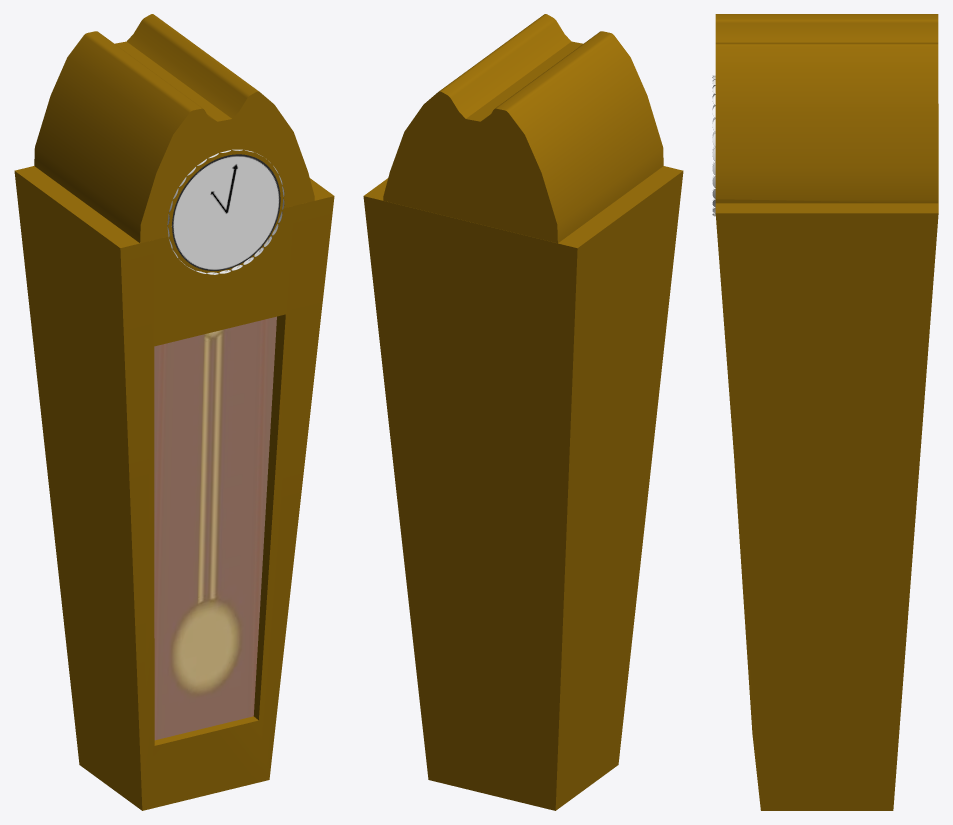
The model's file is reloj.obj.
3 views of the same model, side by side, from view 1: azimuth 30°, elevation 25°; view 2: azimuth 150°, elevation 25°; view 3: azimuth 270°, elevation 25° (orthographic). The views are drawn at different scales.
Parts seen in each view (by area): view 1: reloj:reloj:ModelpolySurface158; view 2: reloj:reloj:ModelpolySurface158; view 3: reloj:reloj:ModelpolySurface158.
Part boxes in pixels (x1=…): reloj:reloj:ModelpolySurface158: x1=14, y1=14, x2=334, y2=810; reloj:reloj:ModelpolySurface158: x1=363, y1=14, x2=683, y2=810; reloj:reloj:ModelpolySurface158: x1=712, y1=14, x2=938, y2=810.
Bounding box in the file's own units: 0.9127 × 2.9 × 0.7937.
Materials: 3 (3 with a texture image).
